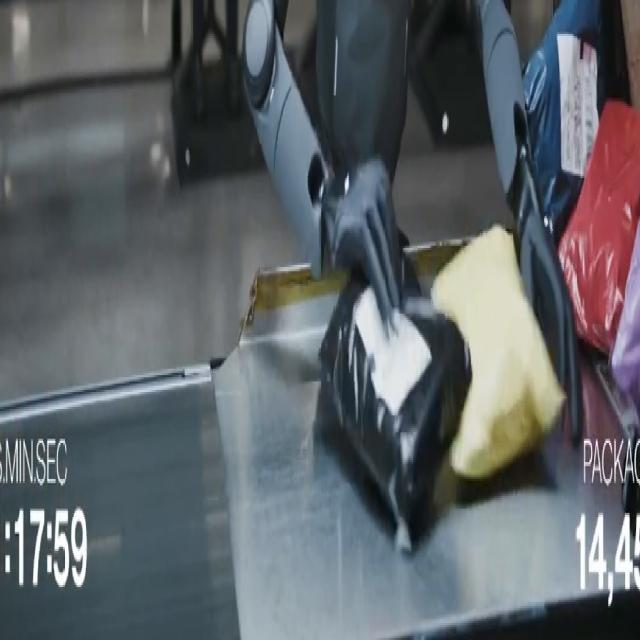package: (320, 274, 471, 550), (432, 227, 564, 481), (559, 102, 639, 356), (524, 0, 602, 245), (611, 225, 639, 411), (620, 0, 639, 110)
